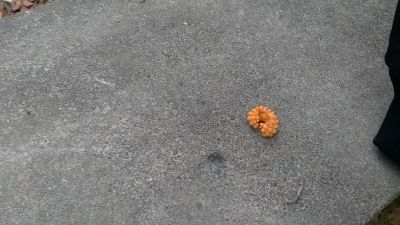eggs: (247, 105, 280, 137)
